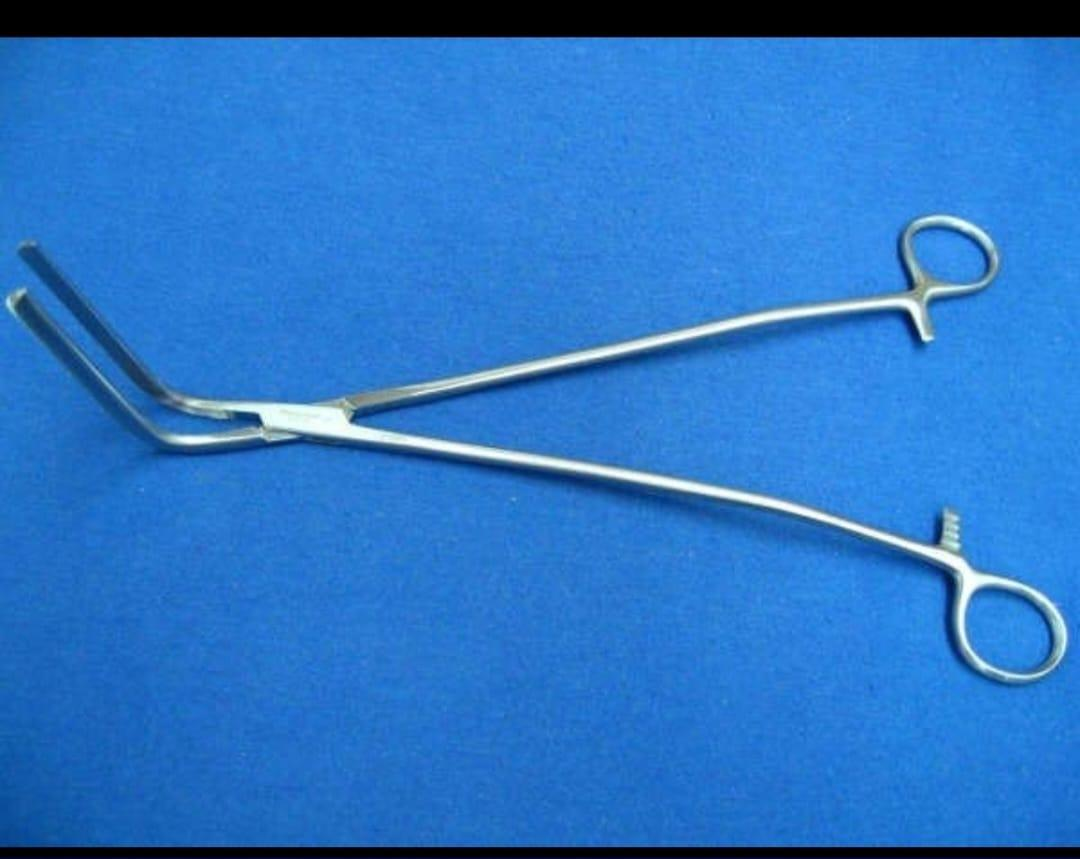Surgical blade: (7, 215, 1066, 688)
